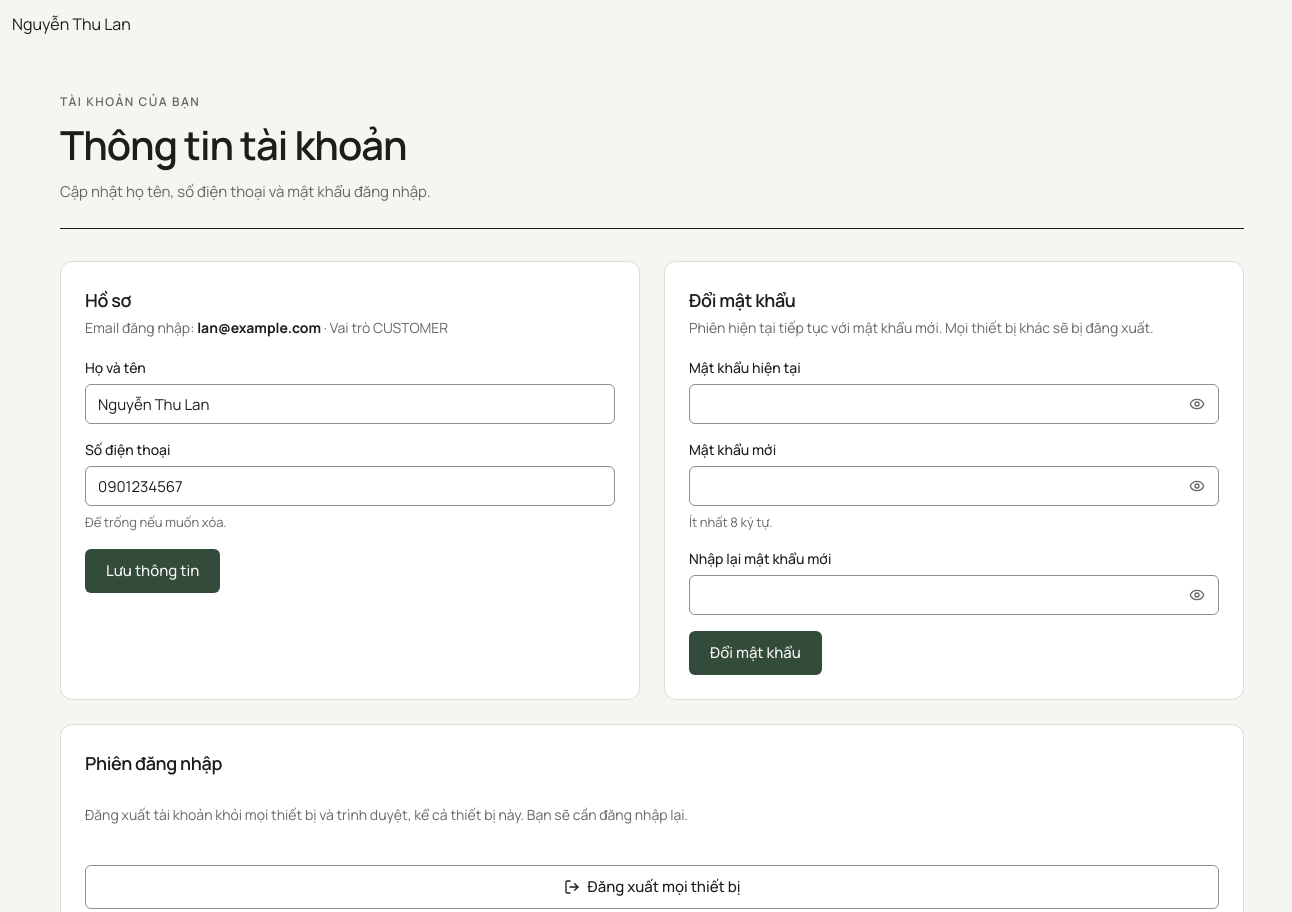
AccountPage and profile hydration (CWB-63) › validates phone number format client-side, surfaces inline error, and has inputMode="tel" (CWB-74)
The width and height of the screenshot is (1292, 912).
Replace the text in the field labelled "Số điện thoại" with "abc" at [350, 486], box [85,466,615,506]
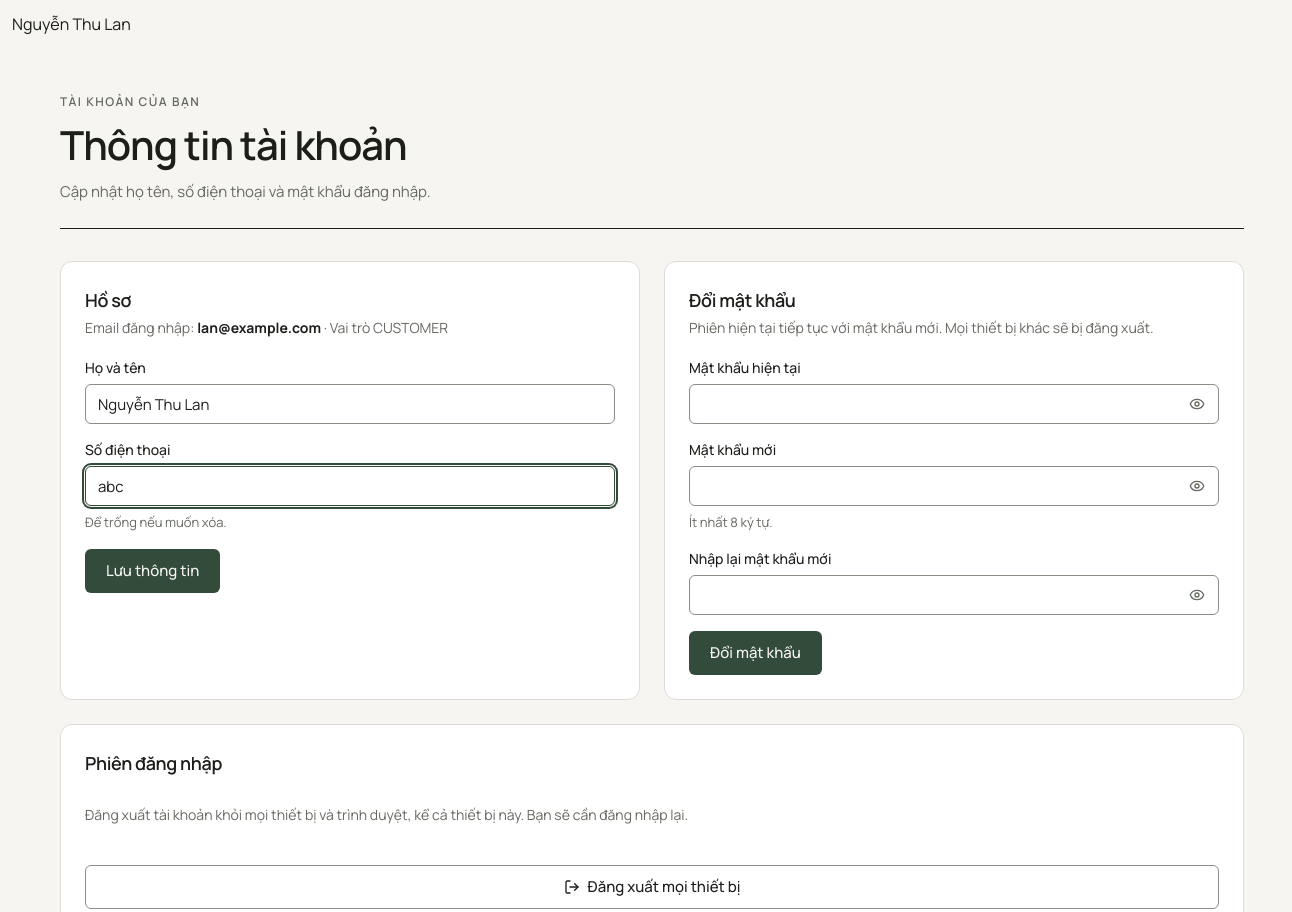
Click the button "Lưu thông tin".
click(153, 571)  # box [85,549,220,593]
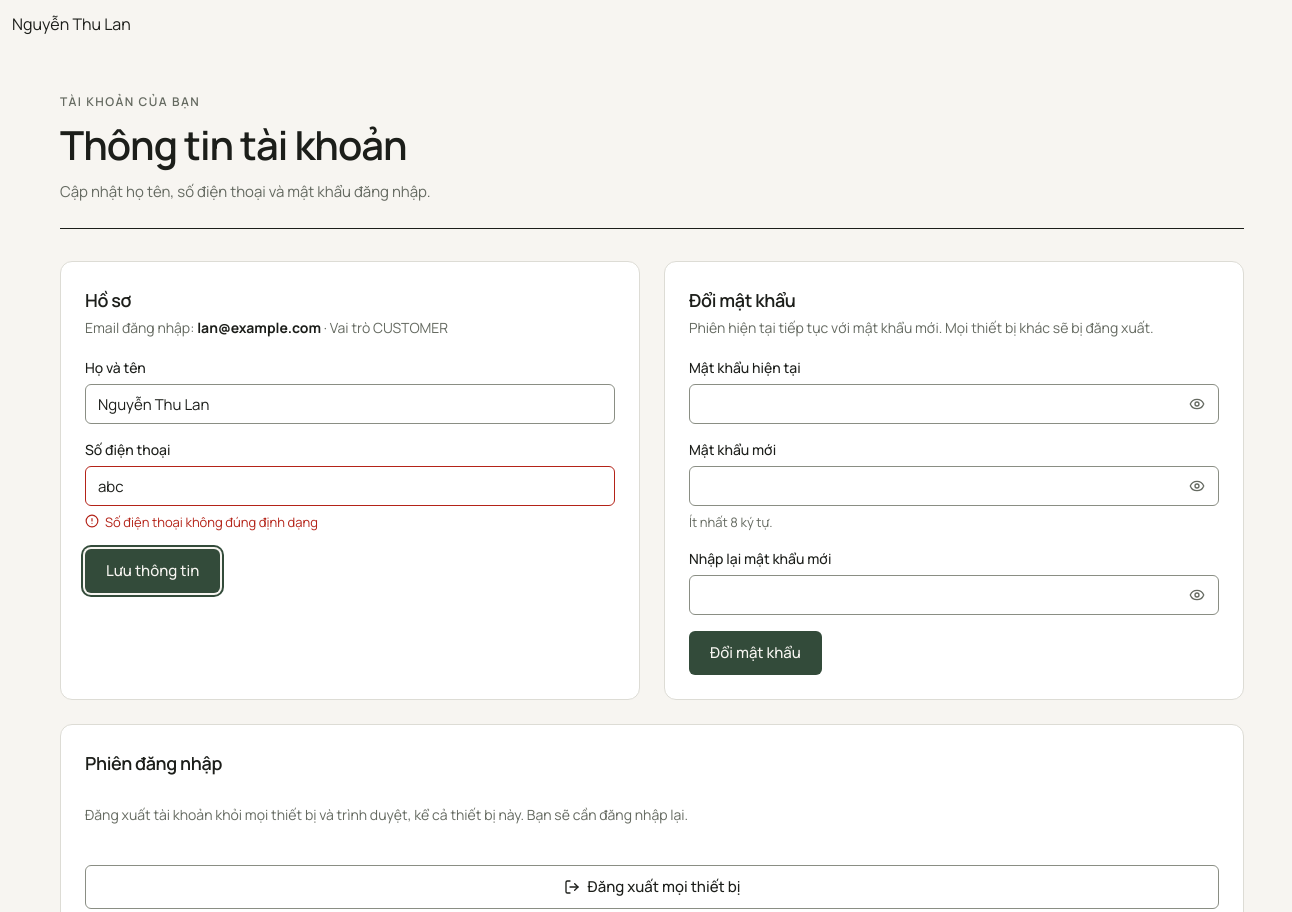
Now the text "Số điện thoại không đúng định dạng" is shown, box [105,512,318,533]
Note: Verify punctuation-only input is rejected
Replace the text in the field labelled "Số điện thoại" with "- ." at [350, 486], box [85,466,615,506]
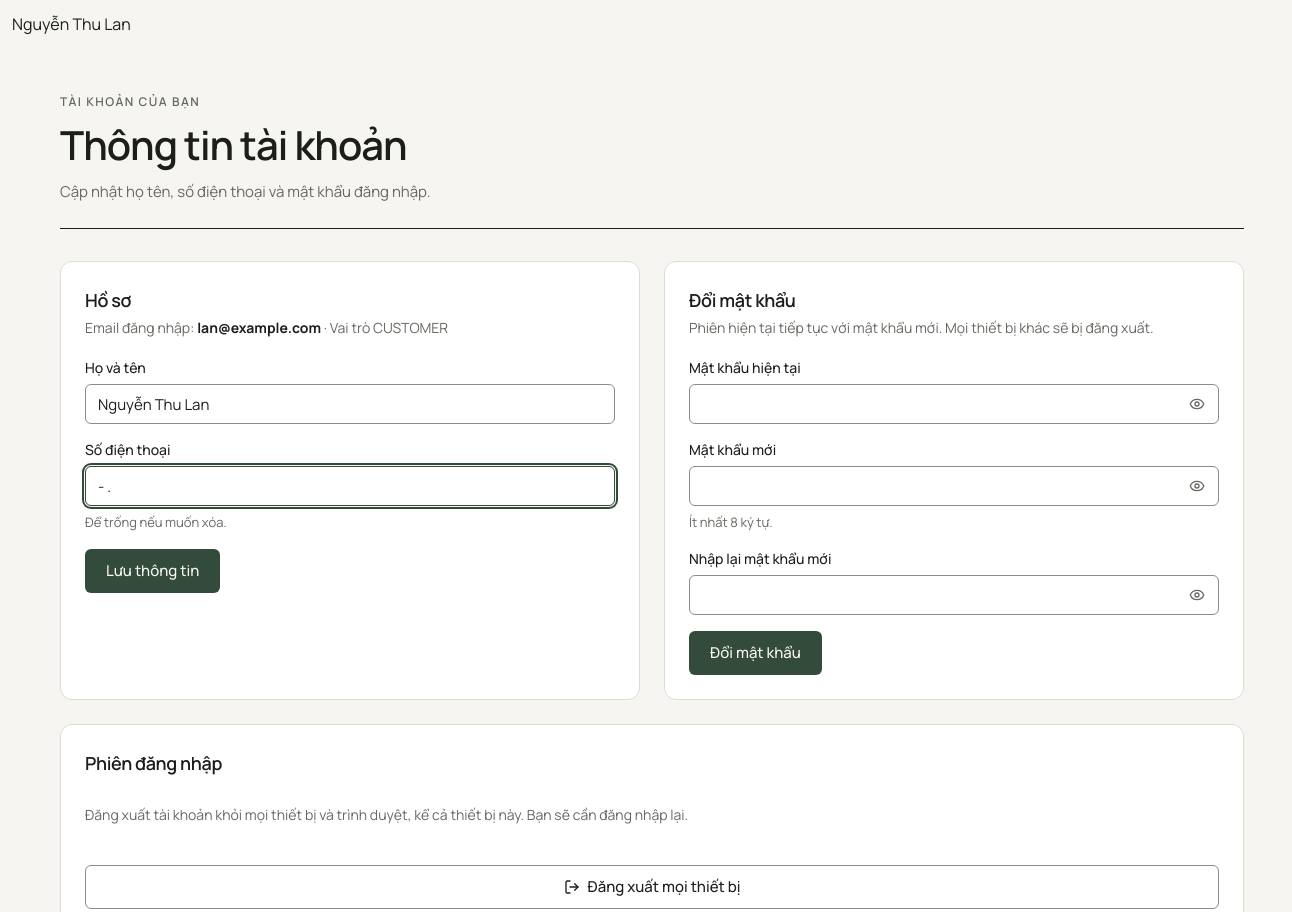
Click the button "Lưu thông tin".
click(153, 571)  # box [85,549,220,593]
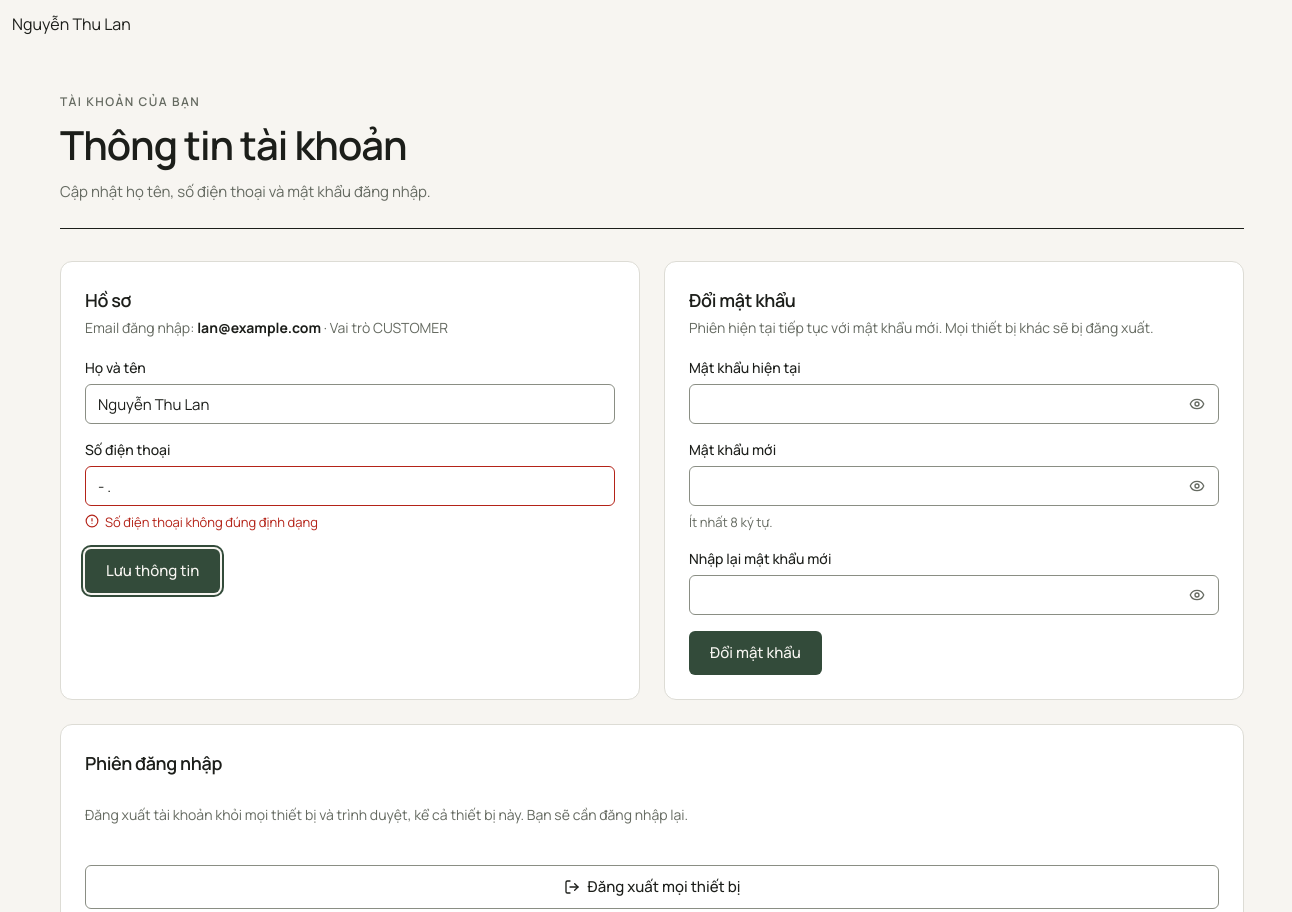
Now the text "Số điện thoại không đúng định dạng" is shown, box [105,512,318,533]
